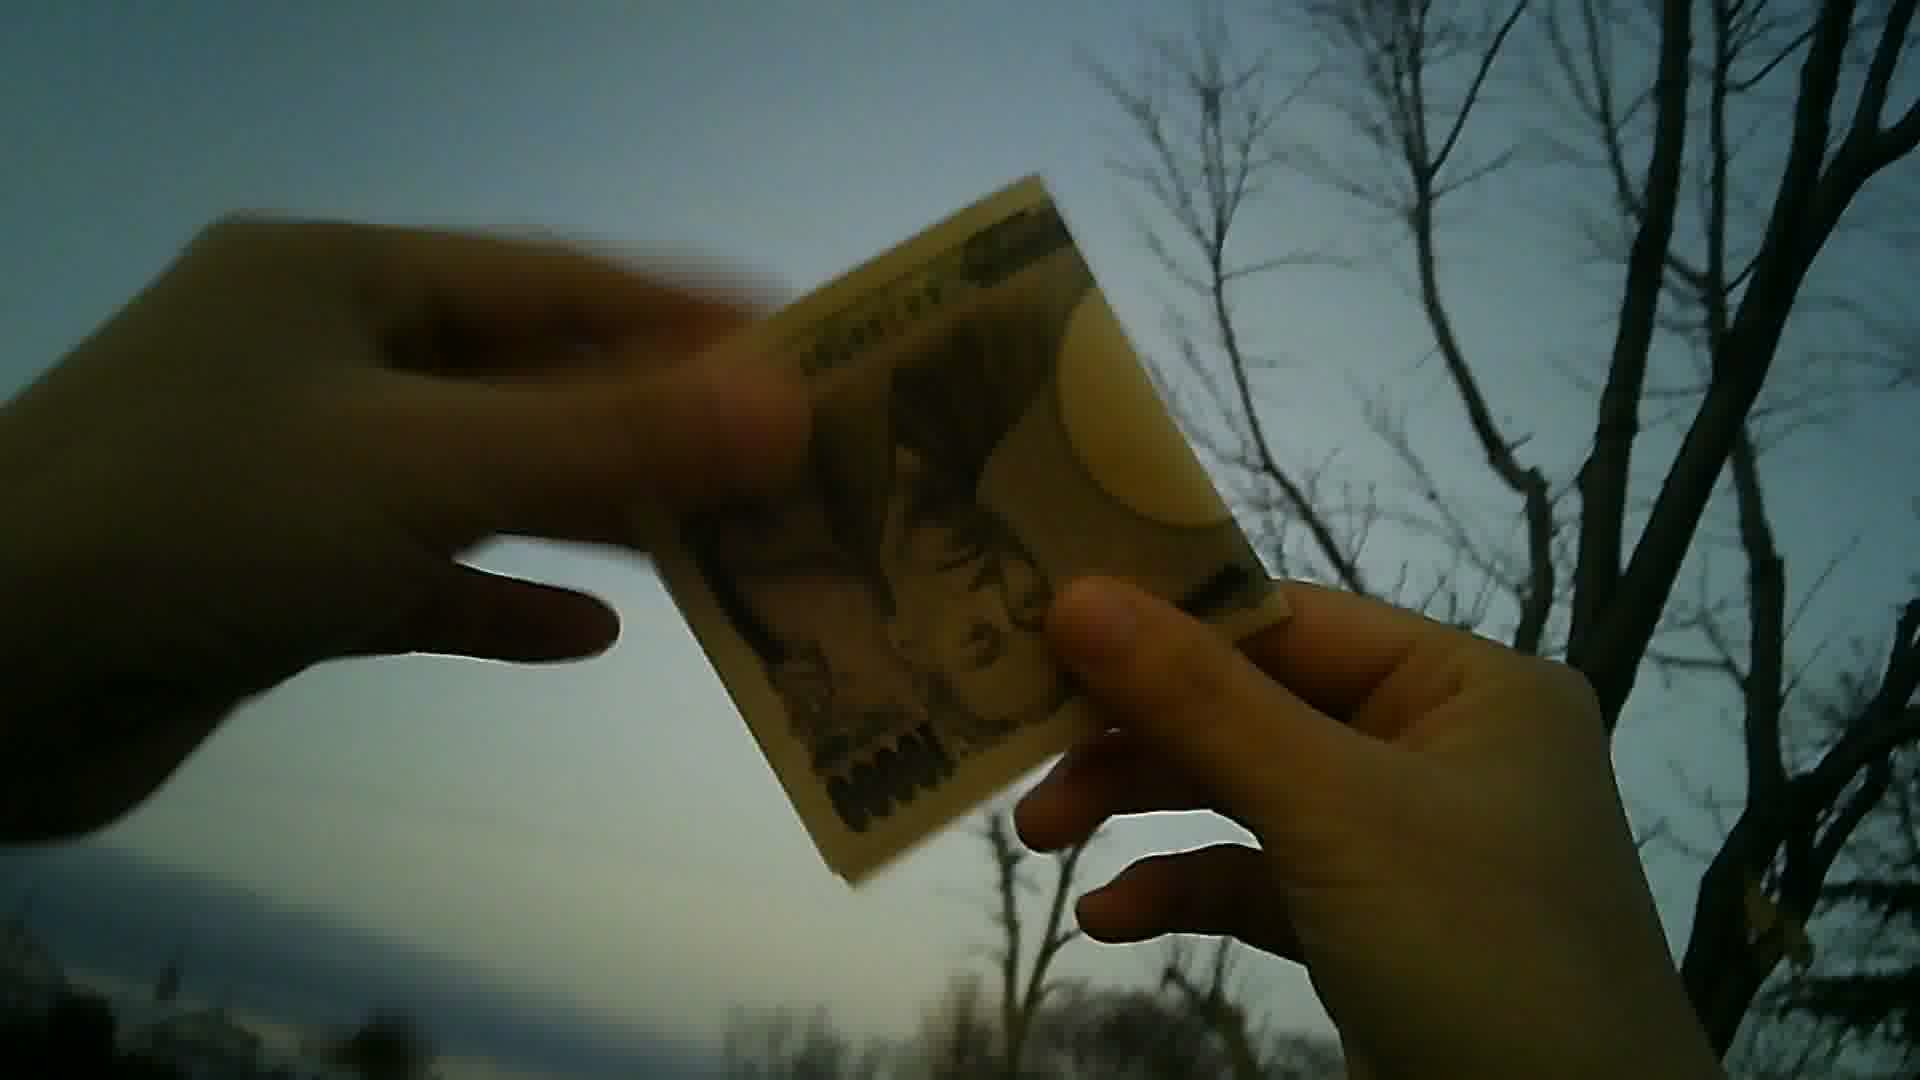10,000 Yen: (584, 170, 1298, 895)
